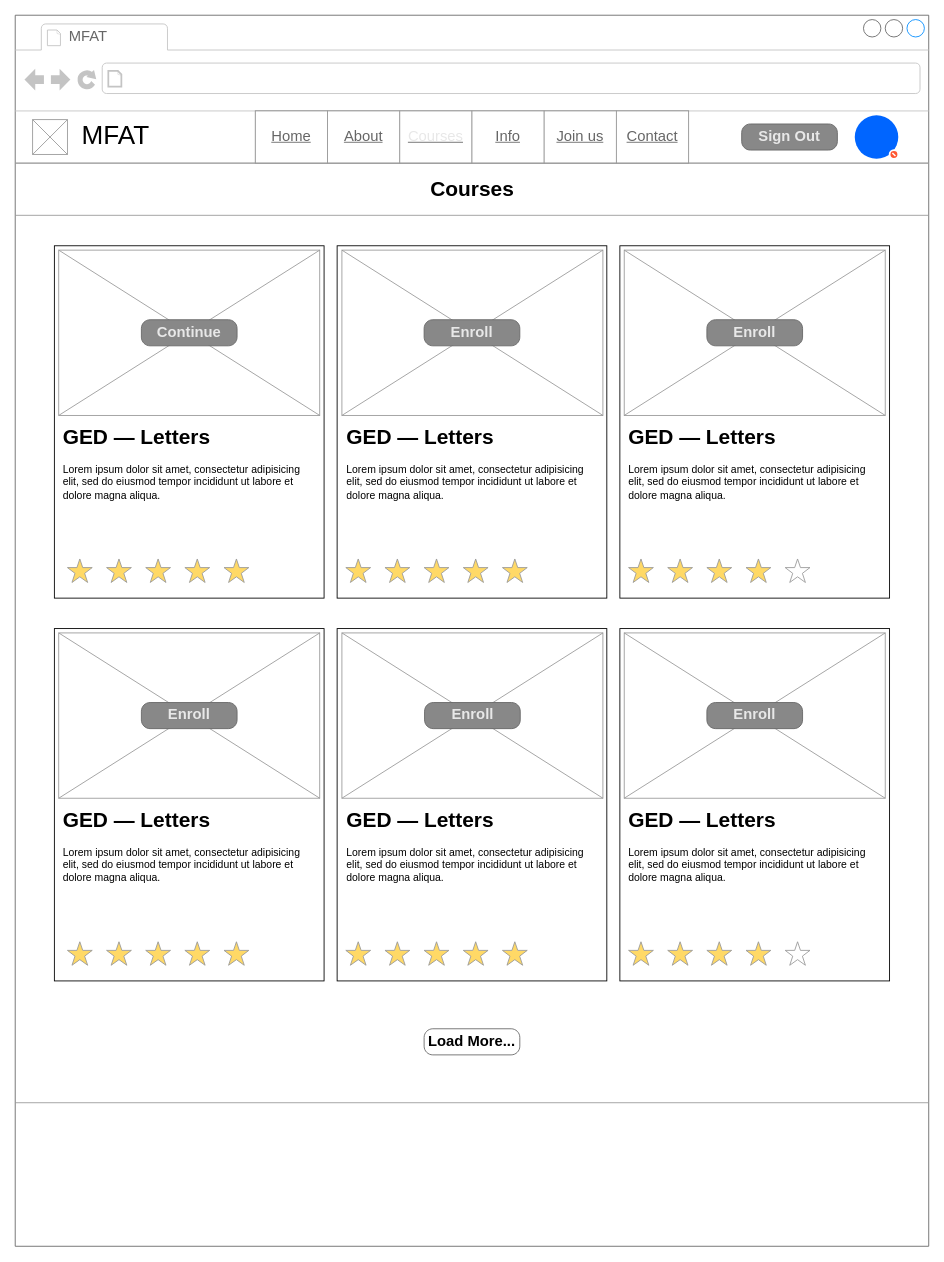
Image size: 944x1262. Some labels were removed from this diagram. Each missing label, with the centre of its shape:
https://mfat.org: pixel 236 78
MM: pixel 876 136
